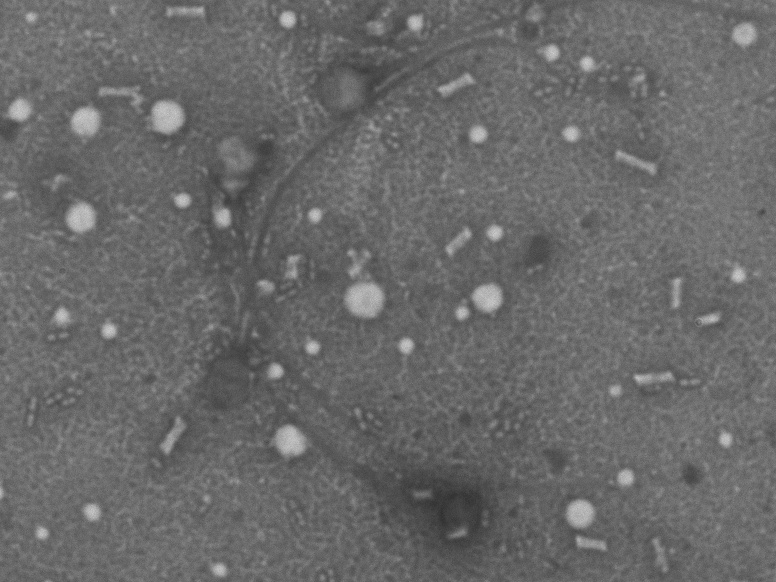Abnormal: (173, 12, 588, 426)
